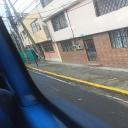NoEstacionar: (24, 44, 38, 52)
